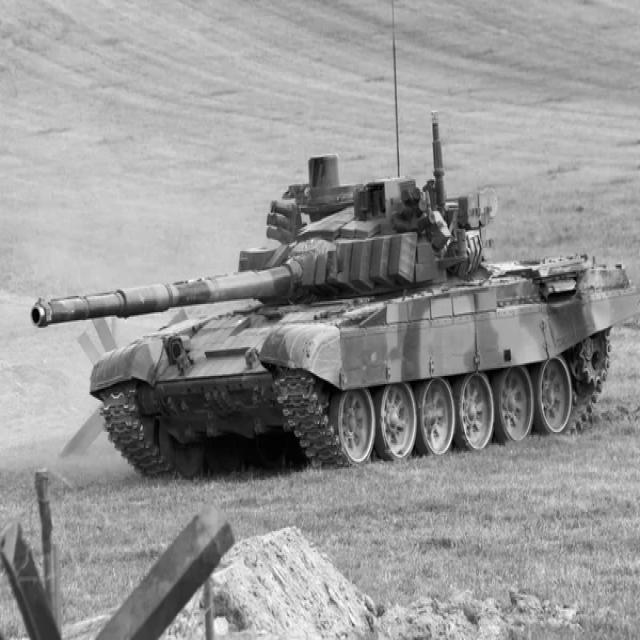Tank: (29, 143, 640, 466)
